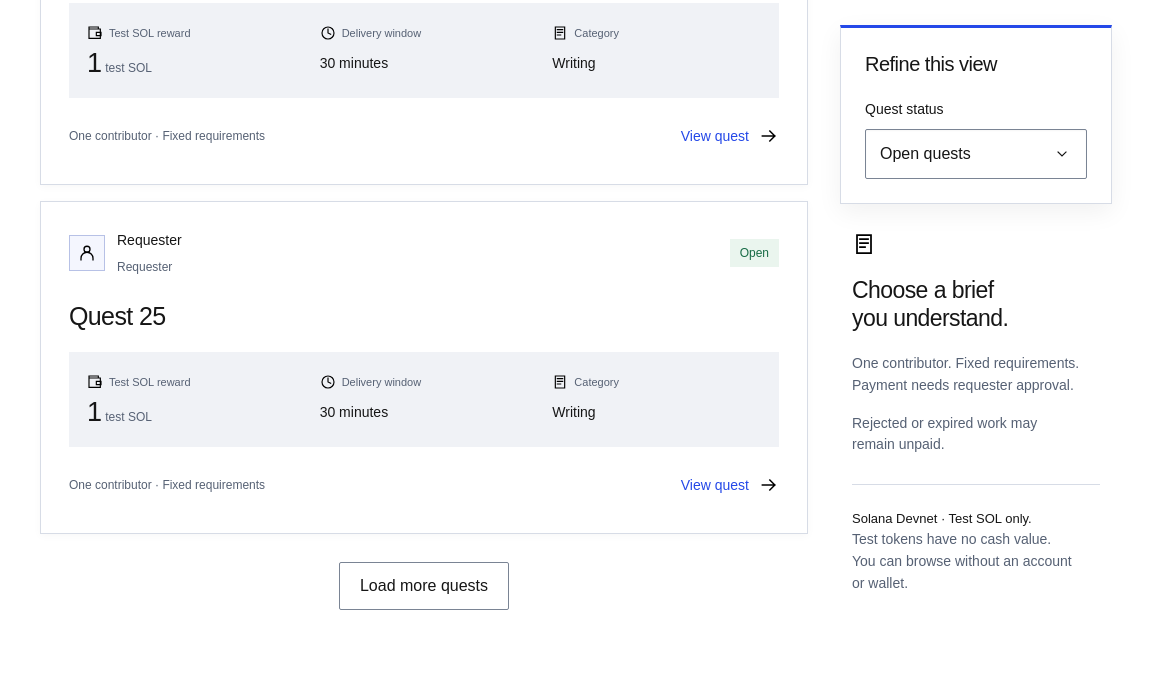
discards a load-more response from before a refresh
This screenshot has width=1152, height=674.
(page scrolled)
Click the button "Load more quests" at (424, 586), box [339,562,509,610]
Wait 9750 ms
(page scrolled)
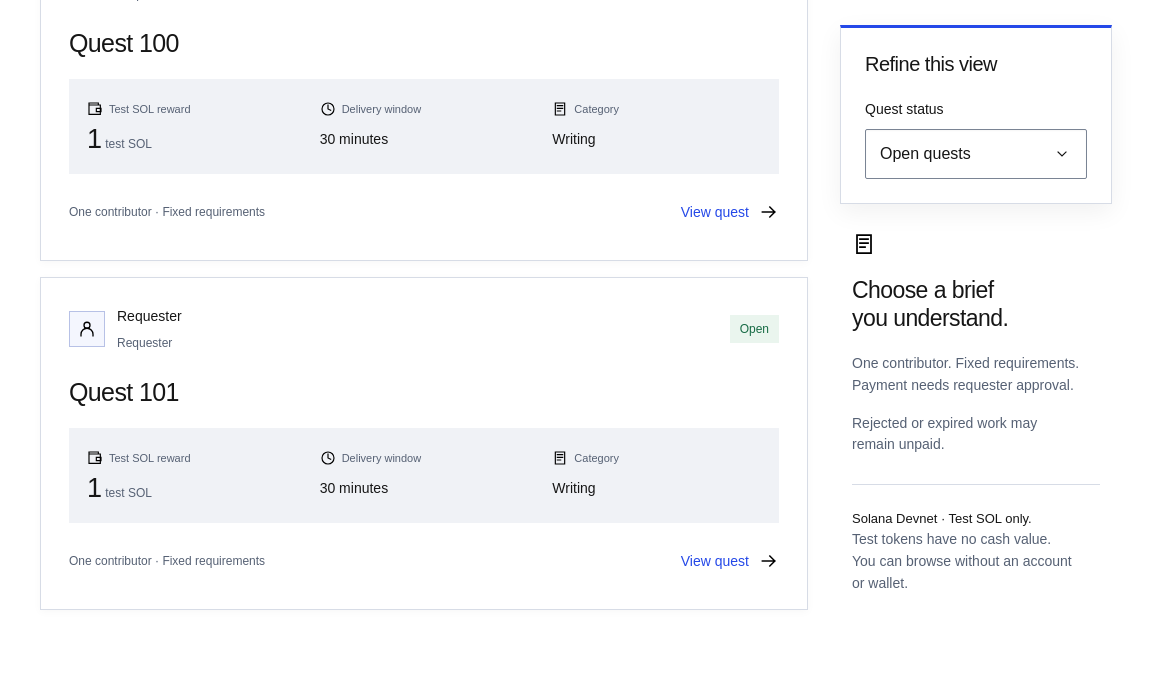
expect the text "Load more quests" is gone: met
